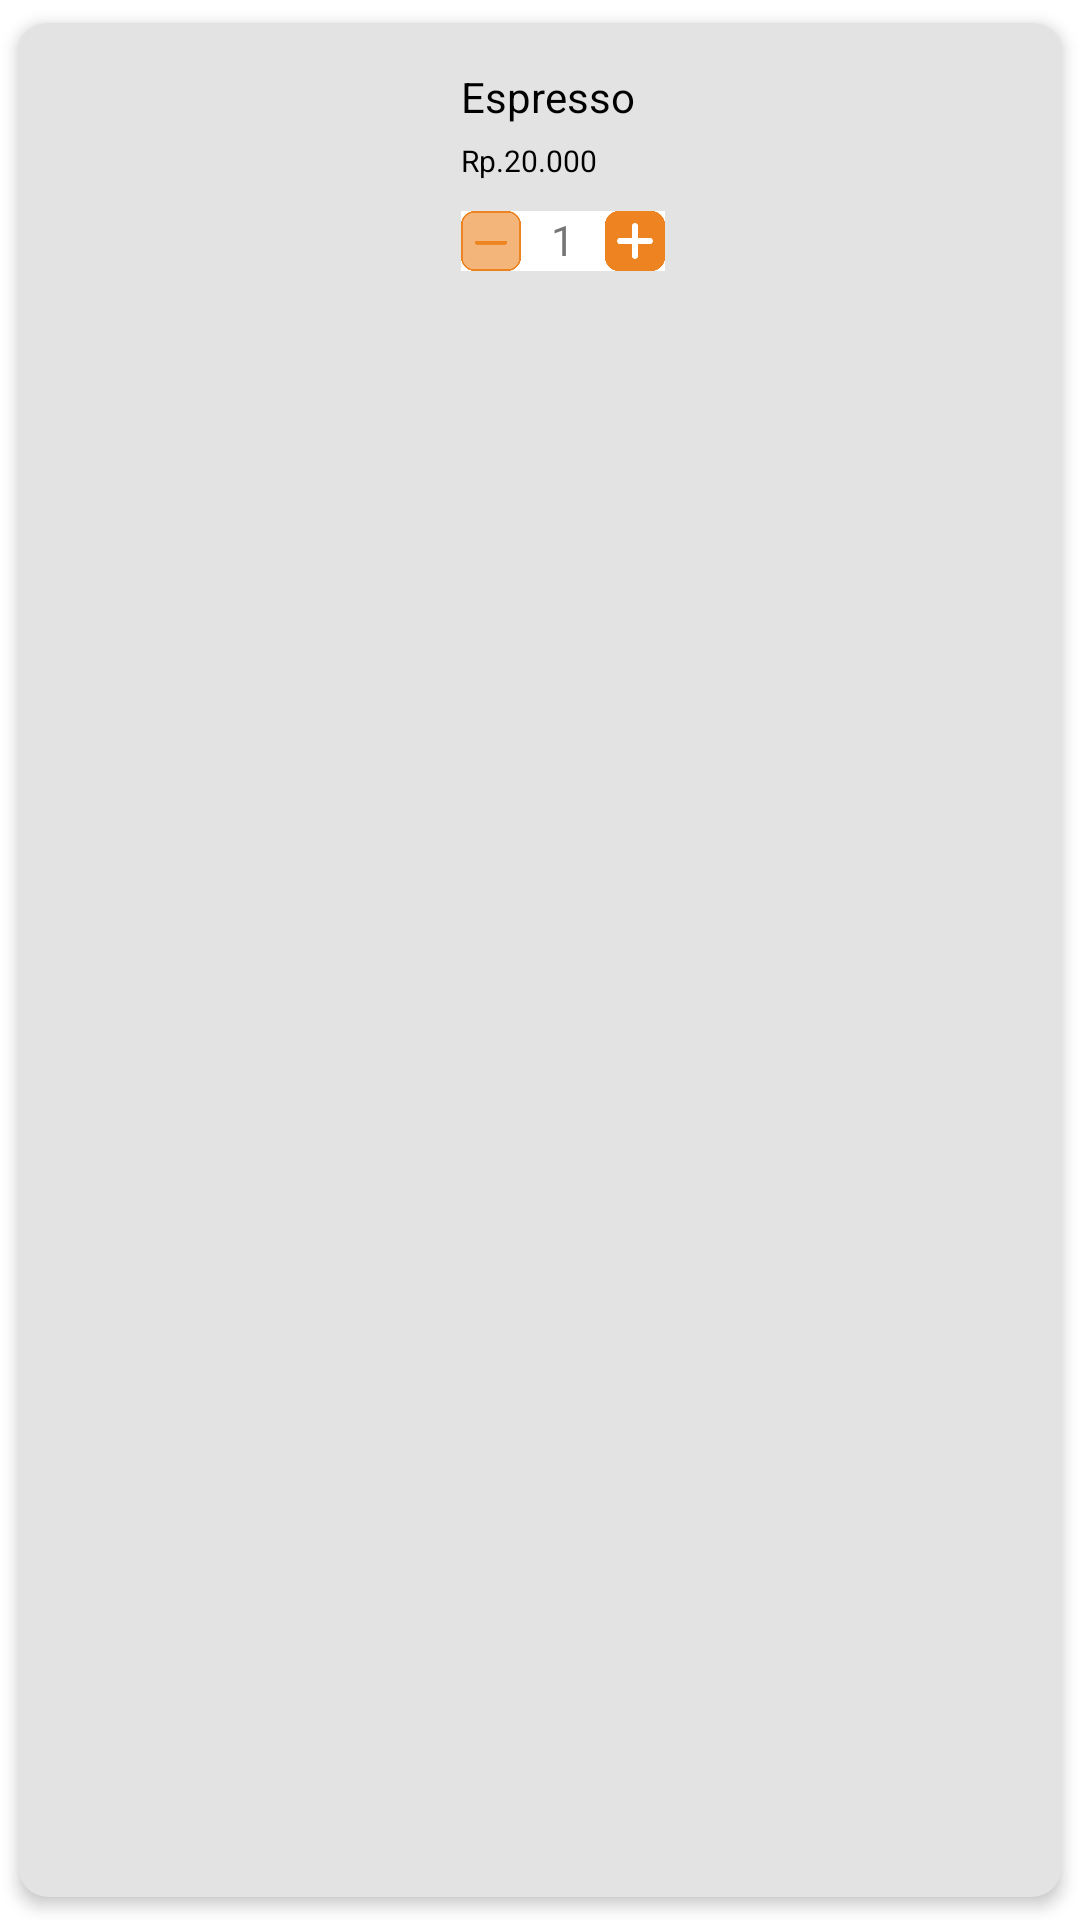

Icons on this 1080x1920 Android screen, each with its box as (x1, y1, x2, y2):
add: (605, 211, 665, 271)
minus: (461, 211, 521, 271)
